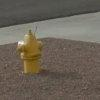Hydrant: (10, 21, 56, 86)
